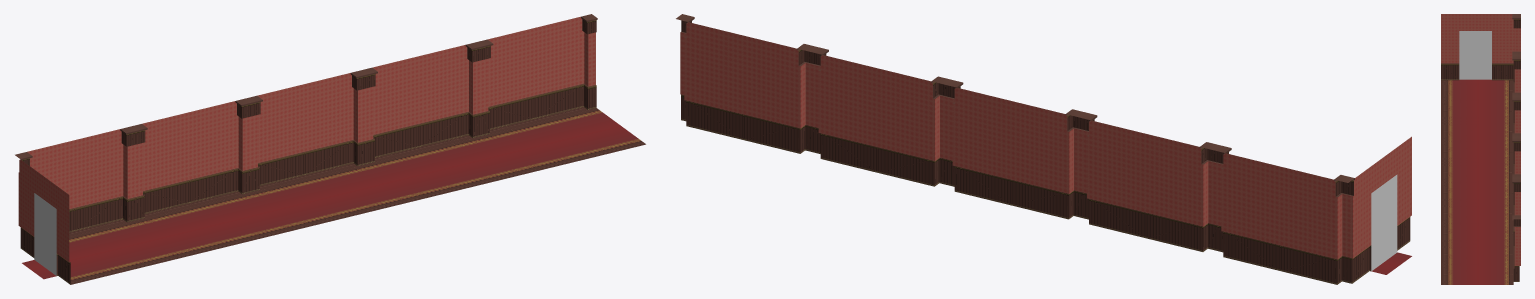
File: hall.glb
3 views of the same model, side by side, from view 1: azimuth 30°, elevation 25°; view 2: azimuth 150°, elevation 25°; view 3: azimuth 270°, elevation 25° (orthographic). The views are drawn at different scales.
Visible parts, largest first — view 1: Hall; view 2: Hall; view 3: Hall.
Boxes of the visible parts, left/top/right/bottom form: Hall: left=15, top=14, right=645, bottom=284; Hall: left=676, top=14, right=1411, bottom=284; Hall: left=1441, top=14, right=1520, bottom=284.
Size of the model in its own units: 41 by 6 by 6.59.
Materials: 4 (3 with a texture image).
